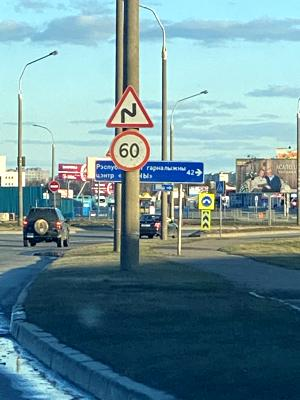Speed Limit -60-: (107, 128, 151, 172)
